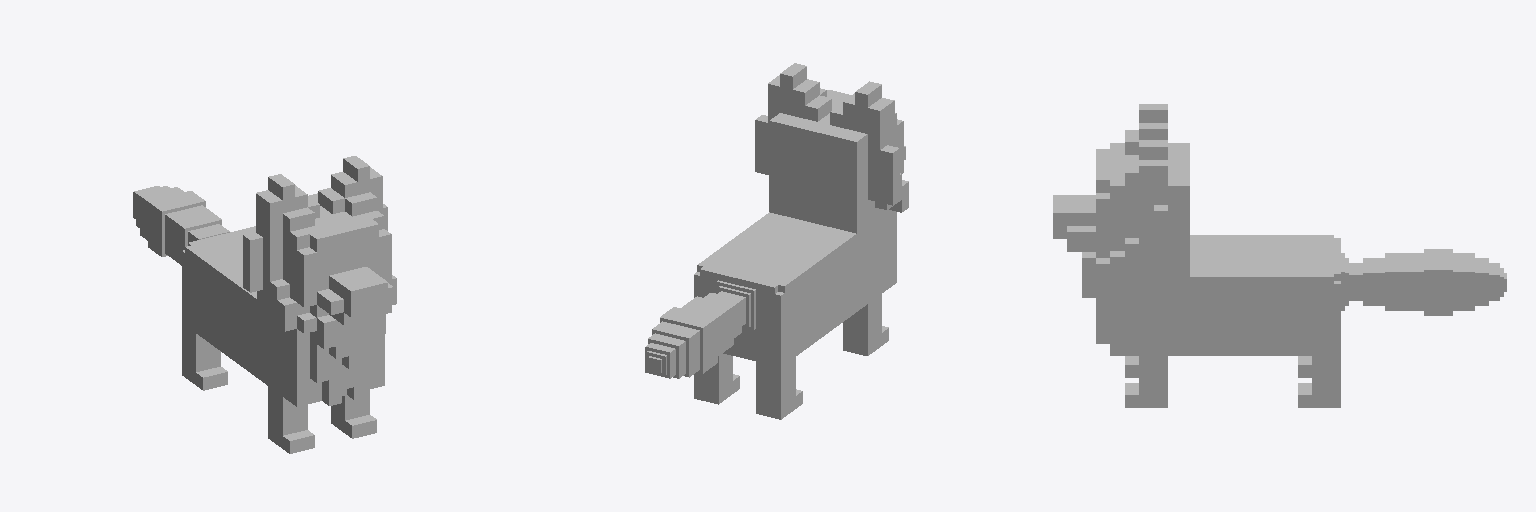
File: Fox.obj
3 renders of one model, left to right at view 1: azimuth 30°, elevation 25°; view 2: azimuth 150°, elevation 25°; view 3: azimuth 270°, elevation 25°, orthographic.
Size of the model in its own units: 44 by 80 by 126.